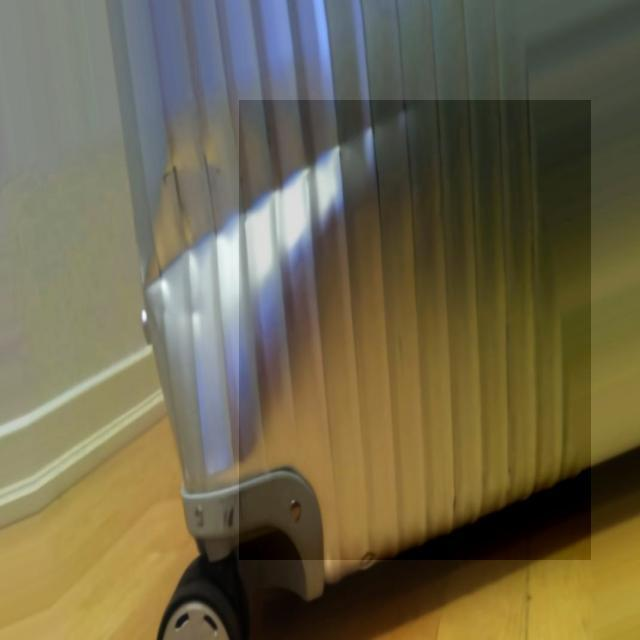Damage-bag: (145, 102, 502, 344)
